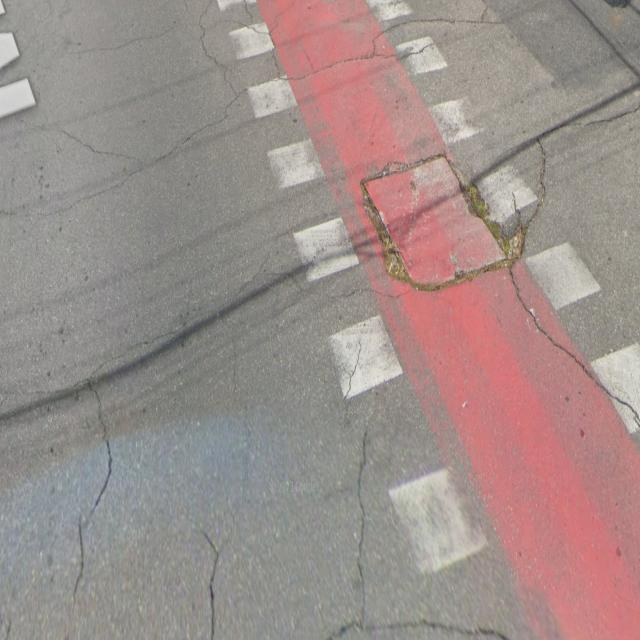Buraco: (362, 136, 528, 303)
